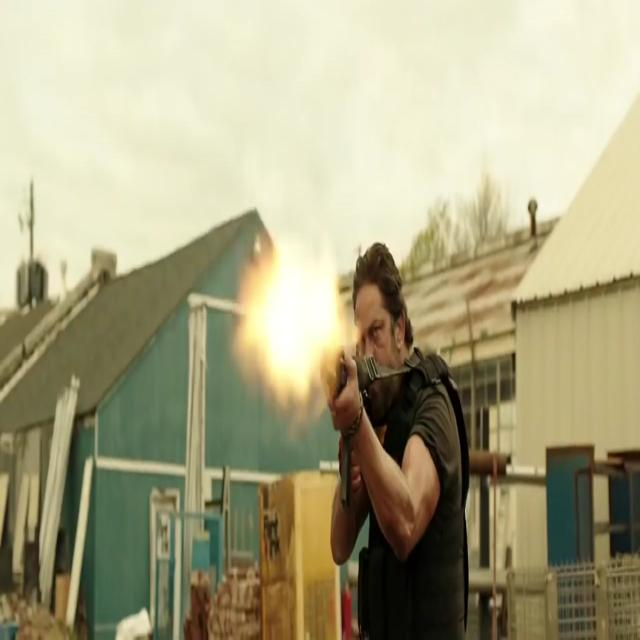Weapon: (303, 299, 402, 494)
